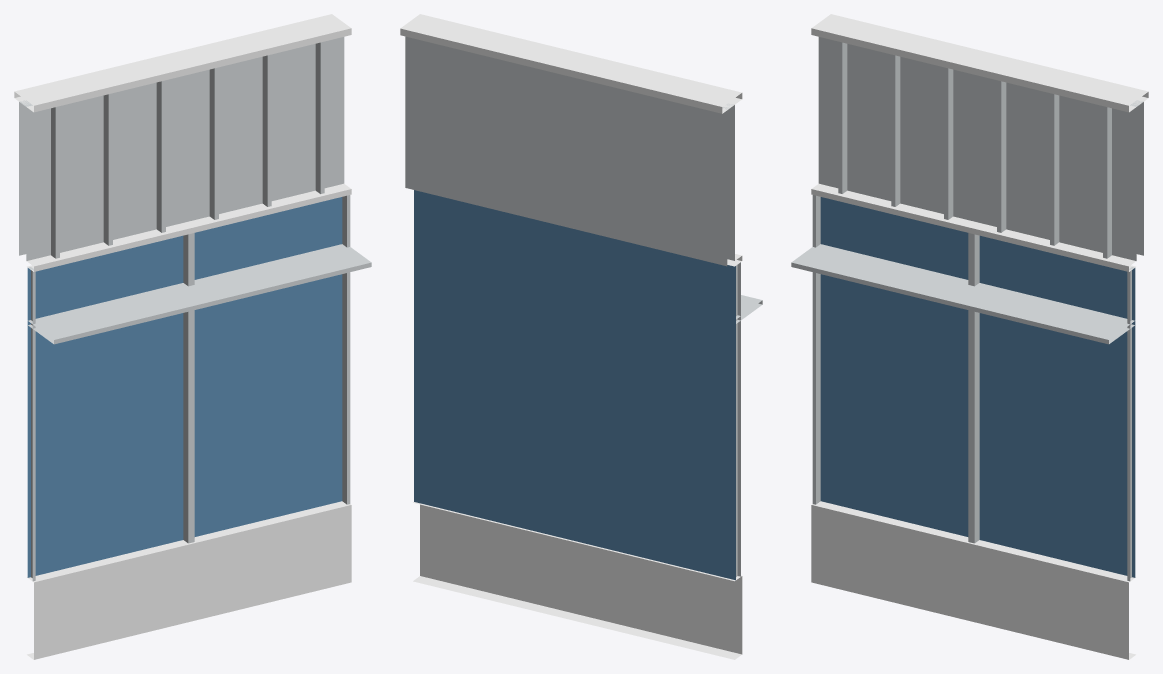
The model's file is top-w1.fbx.
3 views of the same model, side by side, from view 1: azimuth 30°, elevation 25°; view 2: azimuth 150°, elevation 25°; view 3: azimuth 330°, elevation 25° (orthographic).
Visible parts, largest first — view 1: a2009/400/top-w1; view 2: a2009/400/top-w1; view 3: a2009/400/top-w1.
Boxes of the visible parts, <box> form: a2009/400/top-w1: <box>14,14,371,659</box>; a2009/400/top-w1: <box>400,14,762,659</box>; a2009/400/top-w1: <box>791,14,1148,659</box>.
Size of the model in its own units: 3 by 5 by 0.65.
